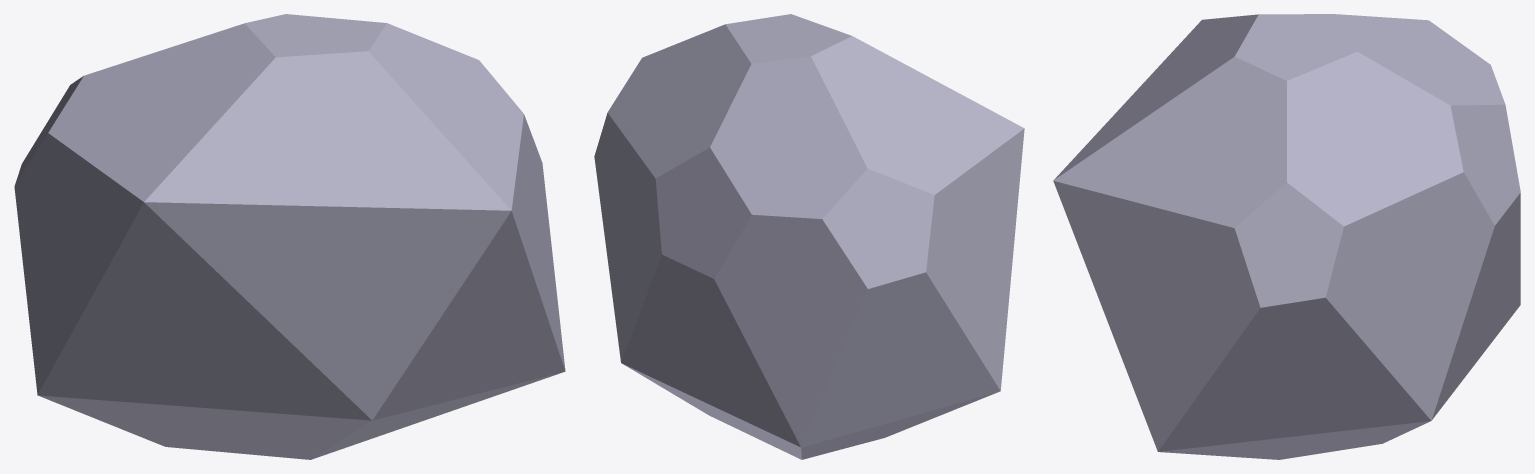
File: Batukerikil1.fbx
3 renders of one model, left to right at view 1: azimuth 30°, elevation 25°; view 2: azimuth 150°, elevation 25°; view 3: azimuth 270°, elevation 25°, orthographic. The views are drawn at different scales.
Visible parts, largest first — view 1: rock_5a; view 2: rock_5a; view 3: rock_5a.
Boxes of the visible parts, left/top/right/bottom form: rock_5a: left=14, top=14, right=565, bottom=459; rock_5a: left=594, top=14, right=1024, bottom=459; rock_5a: left=1053, top=14, right=1520, bottom=459.
Bounding box in the file's own units: 59.89 × 50.82 × 53.27.
